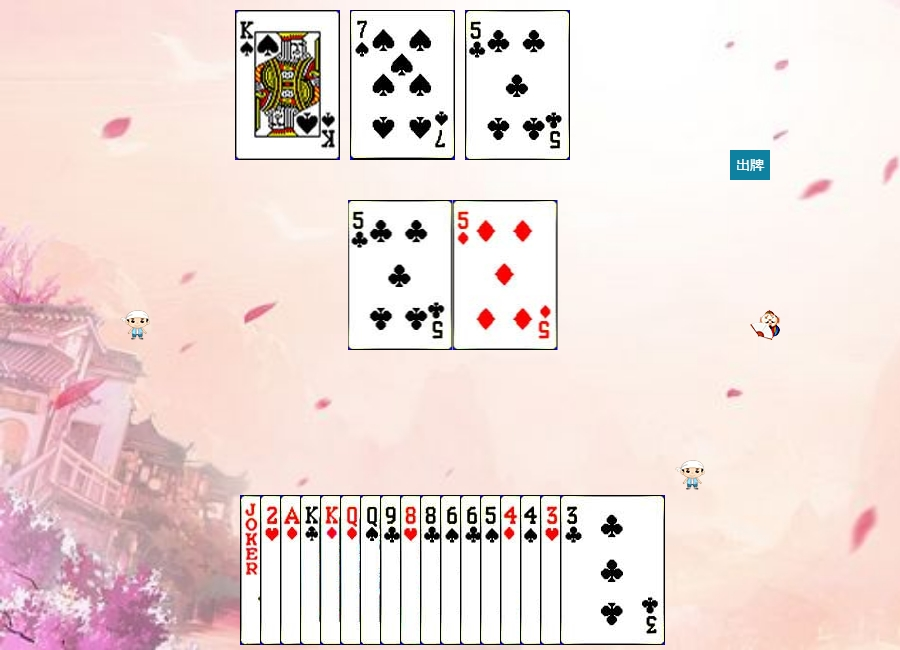12~1: (340, 495, 445, 645)
12~4: (360, 495, 465, 645)
13~1: (320, 495, 425, 645)
13~2: (300, 495, 405, 645)
13~4: (235, 10, 340, 160)
14~1: (280, 495, 385, 645)
15~3: (260, 495, 365, 645)
18~4: (240, 495, 345, 645)
3~2: (560, 495, 665, 645)
3~3: (540, 495, 645, 645)
4~1: (500, 495, 605, 645)
4~4: (520, 495, 625, 645)
5~1: (453, 200, 558, 350)
5~2: (465, 10, 570, 160), (348, 200, 453, 350)
5~4: (480, 495, 585, 645)
6~2: (460, 495, 565, 645)
6~4: (440, 495, 545, 645)
7~4: (350, 10, 455, 160)
8~2: (420, 495, 525, 645)
8~3: (400, 495, 505, 645)
9~2: (380, 495, 485, 645)
